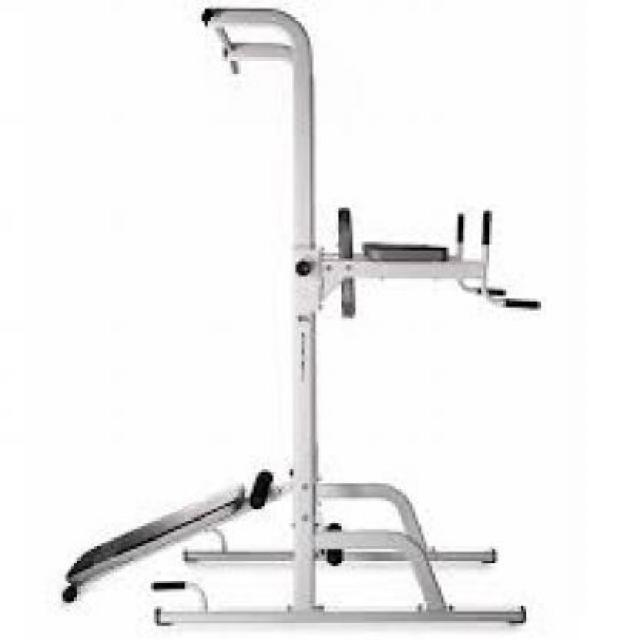chinning dipping: (200, 3, 545, 631)
